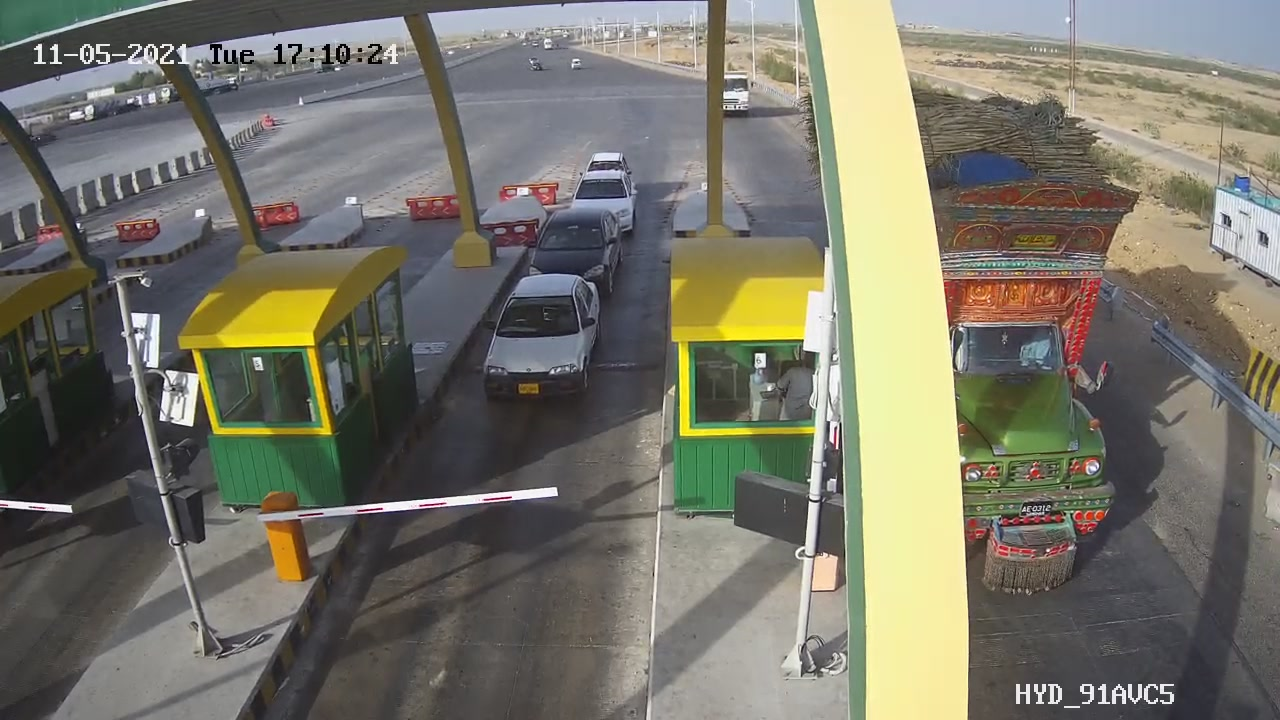F1: (455, 264, 630, 422), (509, 192, 639, 313)
